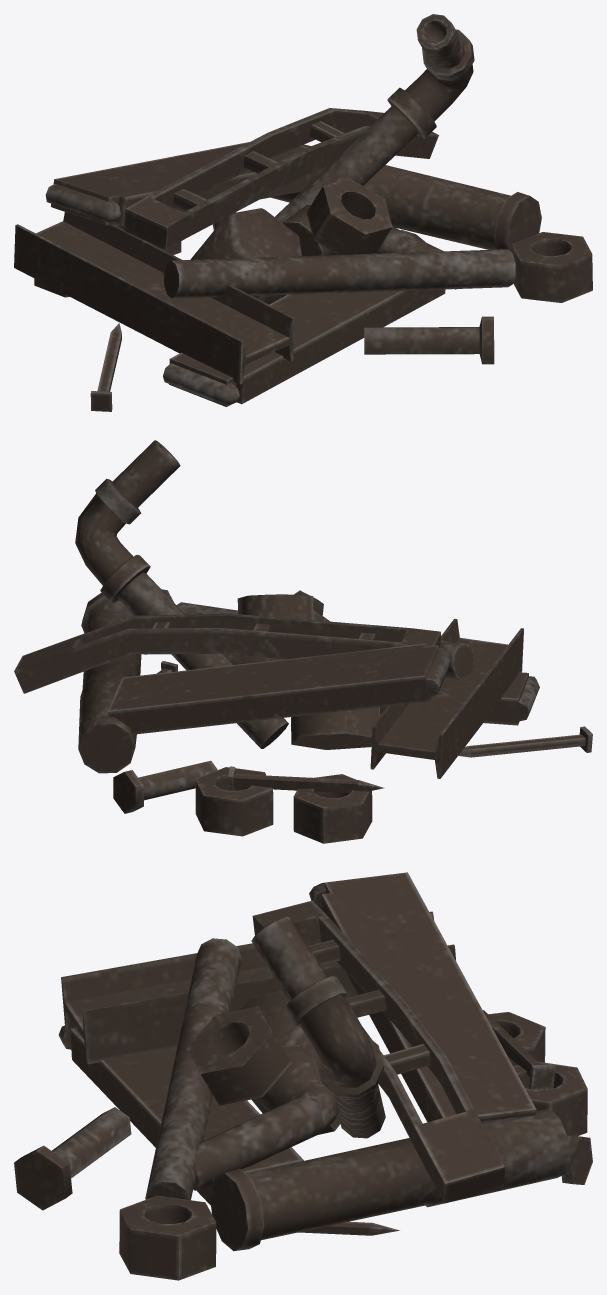
Rendered from scrap_pile.7d24e1dd96.glb.
3 renders of one model, top to bottom at view 1: azimuth 30°, elevation 25°; view 2: azimuth 150°, elevation 25°; view 3: azimuth 270°, elevation 25°, orthographic. The views are drawn at different scales.
Parts seen in each view (by area): view 1: scrap_pile; view 2: scrap_pile; view 3: scrap_pile.
Part boxes in pixels (x1,y1,x2,y2): scrap_pile: (14,14,592,411); scrap_pile: (14,440,592,843); scrap_pile: (14,872,592,1280).
Size of the model in its own units: 0.4 by 0.2081 by 0.3339.
1 material, 1 textured.
